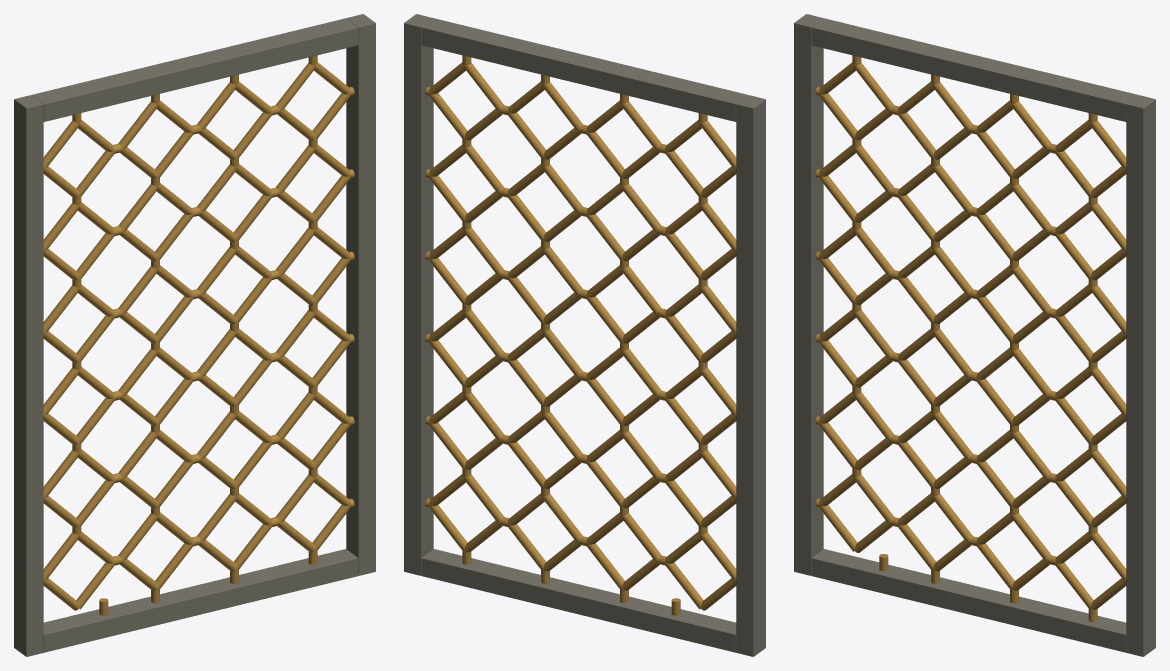
File: source-edit.glb
3 views of the same model, side by side, from view 1: azimuth 30°, elevation 25°; view 2: azimuth 150°, elevation 25°; view 3: azimuth 330°, elevation 25° (orthographic).
Visible parts, largest first — view 1: Side_Frame, Side_Frame.001, Frame_Rail.001, Frame_Rail, Diamond.024, Diamond.028, Diamond.068, Diamond.048, Diamond.060, Diamond.080, Diamond.084, Diamond.036 (+10 smaller); view 2: Side_Frame, Side_Frame.001, Frame_Rail.001, Frame_Rail, Diamond.024, Diamond.028, Diamond.068, Diamond.048, Diamond.060, Diamond.080, Diamond.084, Diamond.036 (+10 smaller); view 3: Side_Frame.001, Side_Frame, Frame_Rail.001, Frame_Rail, Diamond.045, Diamond.049, Diamond.053, Diamond.009, Diamond.013, Diamond.025, Diamond.037, Diamond.001 (+10 smaller).
Boxes of the visible parts, left/top/right/bottom form: Side_Frame: left=14, top=95, right=43, bottom=656; Side_Frame.001: left=346, top=14, right=375, bottom=575; Frame_Rail.001: left=32, top=18, right=358, bottom=121; Frame_Rail: left=43, top=549, right=358, bottom=652; Diamond.024: left=118, top=513, right=157, bottom=560; Diamond.028: left=118, top=431, right=157, bottom=478; Diamond.068: left=197, top=82, right=236, bottom=129; Diamond.048: left=197, top=494, right=236, bottom=541; Diamond.060: left=197, top=247, right=236, bottom=294; Diamond.080: left=276, top=310, right=315, bottom=357; Diamond.084: left=276, top=227, right=315, bottom=275; Diamond.036: left=118, top=266, right=157, bottom=313; Side_Frame: left=736, top=95, right=765, bottom=656; Side_Frame.001: left=404, top=14, right=433, bottom=575; Frame_Rail.001: left=421, top=18, right=747, bottom=121; Frame_Rail: left=421, top=549, right=736, bottom=652; Diamond.024: left=622, top=513, right=661, bottom=560; Diamond.028: left=622, top=431, right=661, bottom=478; Diamond.068: left=543, top=82, right=582, bottom=129; Diamond.048: left=543, top=494, right=582, bottom=541; Diamond.060: left=543, top=247, right=582, bottom=294; Diamond.080: left=464, top=310, right=503, bottom=357; Diamond.084: left=464, top=227, right=503, bottom=275; Diamond.036: left=622, top=266, right=661, bottom=313; Side_Frame.001: left=1126, top=95, right=1155, bottom=656; Side_Frame: left=794, top=14, right=823, bottom=575; Frame_Rail.001: left=811, top=18, right=1137, bottom=121; Frame_Rail: left=811, top=549, right=1126, bottom=652; Diamond.045: left=933, top=82, right=972, bottom=129; Diamond.049: left=1012, top=513, right=1051, bottom=560; Diamond.053: left=1012, top=431, right=1051, bottom=478; Diamond.009: left=854, top=310, right=893, bottom=357; Diamond.013: left=854, top=227, right=893, bottom=275; Diamond.025: left=933, top=494, right=972, bottom=541; Diamond.037: left=933, top=247, right=972, bottom=294; Diamond.001: left=854, top=474, right=893, bottom=522.
Size of the model in its own units: 1.6 by 2.4 by 0.1.
